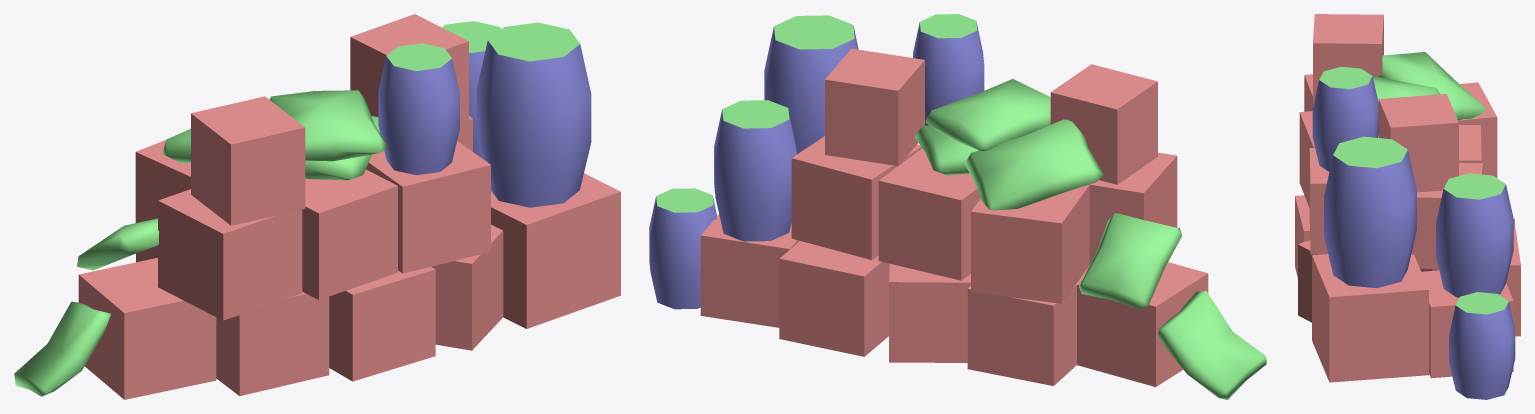
Rendered from Godard_Village_S__godard_obj_box_C.gltf.
3 views of the same model, side by side, from view 1: azimuth 30°, elevation 25°; view 2: azimuth 150°, elevation 25°; view 3: azimuth 270°, elevation 25° (orthographic). The views are drawn at different scales.
Parts seen in each view (by area): view 1: godard_obj_box_C; view 2: godard_obj_box_C; view 3: godard_obj_box_C.
Part boxes in pixels (box(x1,y1,x2,y2)): godard_obj_box_C: box(14, 14, 620, 399); godard_obj_box_C: box(649, 14, 1266, 399); godard_obj_box_C: box(1295, 14, 1520, 399).
Size of the model in its own units: 1.63 by 0.7303 by 0.6494.
